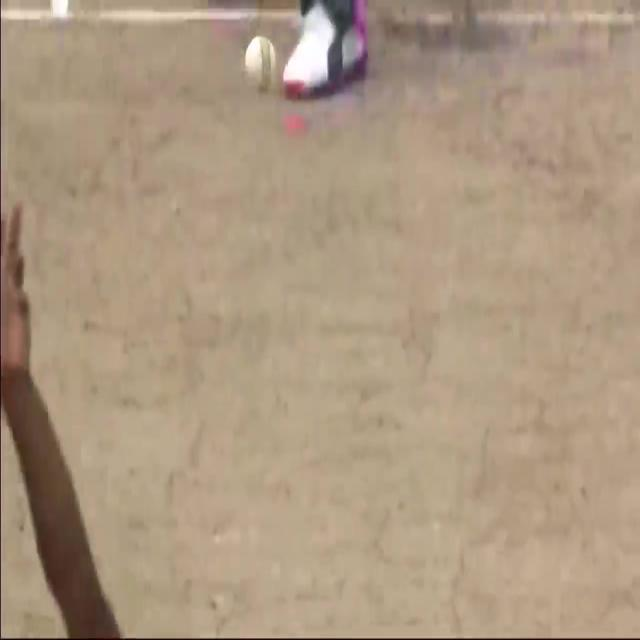Batsman: (238, 28, 282, 100)
